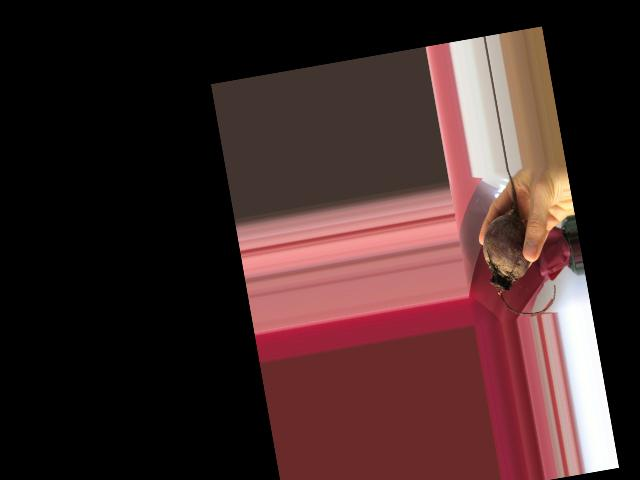beet: (470, 166, 559, 321)
